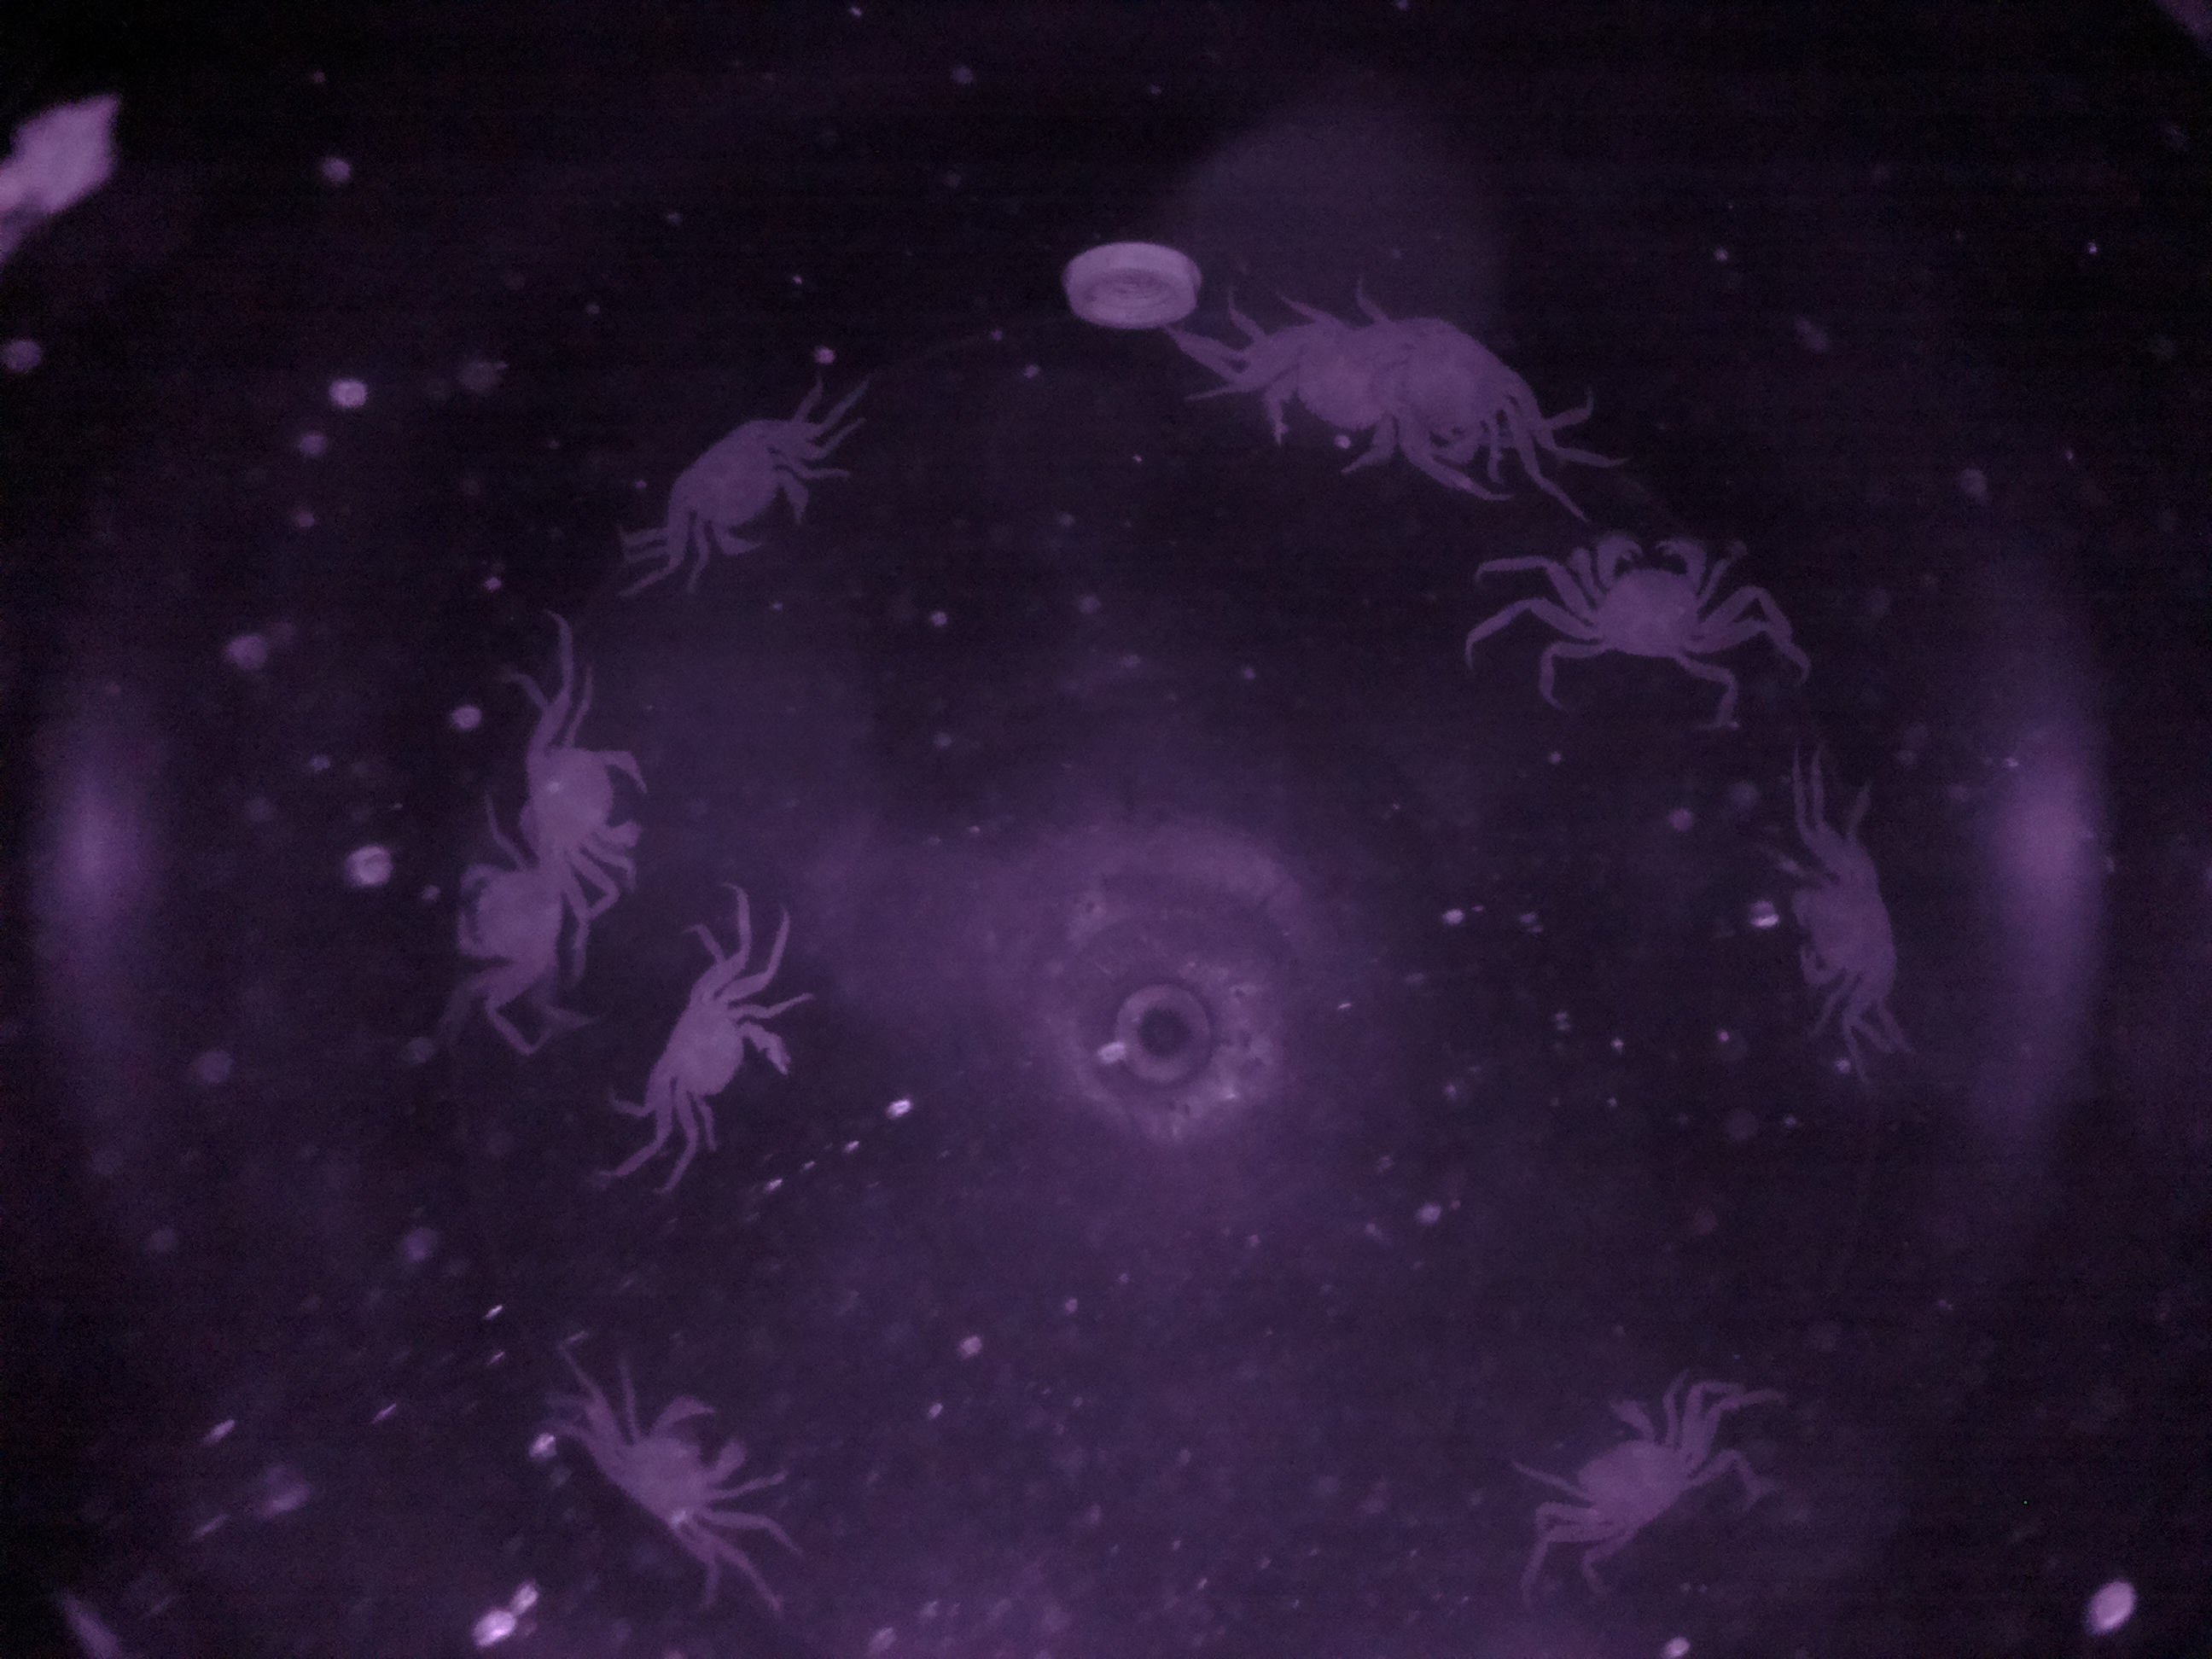Crab: (1750, 810, 1939, 1037), (617, 960, 808, 1166), (585, 1373, 768, 1579), (650, 392, 834, 587), (1538, 525, 1759, 681)
